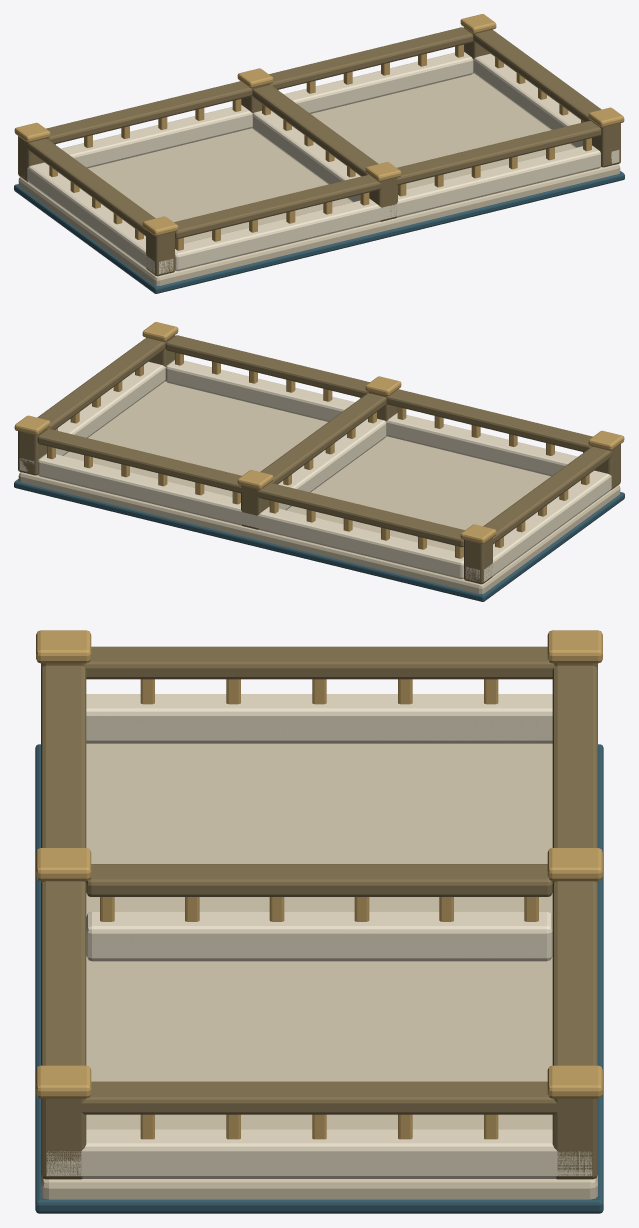
File: double-tray.glb
3 views of the same model, one above another, from view 1: azimuth 30°, elevation 25°; view 2: azimuth 150°, elevation 25°; view 3: azimuth 270°, elevation 25° (orthographic). The views are drawn at different scales.
Visible parts, largest first — view 1: Continuous limestone plinth.002, Retaining stone kerb.009, Continuous bronze rail.009, Bronze fence picket.070, Blue foundation band.002; view 2: Continuous limestone plinth.002, Retaining stone kerb.009, Continuous bronze rail.009, Bronze fence picket.070, Blue foundation band.002; view 3: Continuous limestone plinth.002, Continuous bronze rail.009, Retaining stone kerb.009, Bronze fence picket.070, Blue foundation band.002.
Boxes of the visible parts, <box> form: Continuous limestone plinth.002: <box>18,73,620,285</box>; Retaining stone kerb.009: <box>22,52,619,274</box>; Continuous bronze rail.009: <box>18,27,620,276</box>; Bronze fence picket.070: <box>14,14,624,250</box>; Blue foundation band.002: <box>14,171,624,293</box>; Continuous limestone plinth.002: <box>18,381,620,593</box>; Retaining stone kerb.009: <box>19,360,611,581</box>; Continuous bronze rail.009: <box>18,335,620,584</box>; Bronze fence picket.070: <box>14,322,624,558</box>; Blue foundation band.002: <box>14,479,624,601</box>; Continuous limestone plinth.002: <box>41,743,597,1199</box>; Continuous bronze rail.009: <box>41,646,597,1179</box>; Retaining stone kerb.009: <box>46,694,592,1178</box>; Bronze fence picket.070: <box>36,630,602,1139</box>; Blue foundation band.002: <box>35,744,603,1213</box>.
Bounding box in the file's own units: 3.36 × 0.4475 × 1.75.
